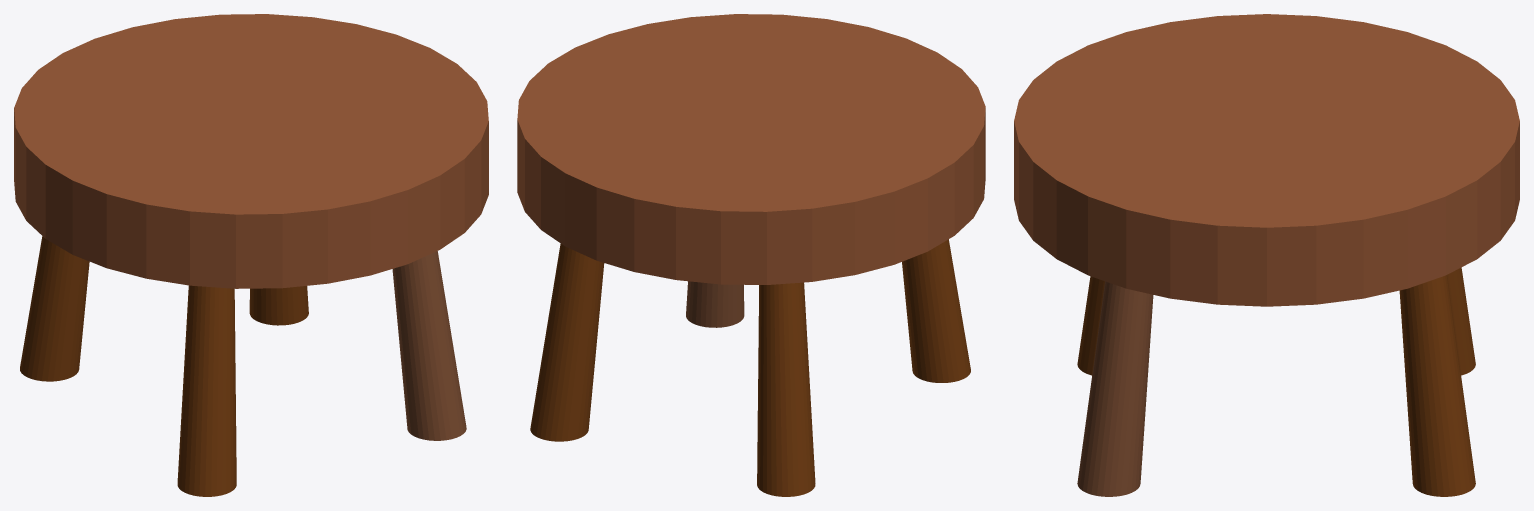
Rendered from M_Tabouret.fbx.
3 views of the same model, side by side, from view 1: azimuth 30°, elevation 25°; view 2: azimuth 150°, elevation 25°; view 3: azimuth 270°, elevation 25° (orthographic). The views are drawn at different scales.
Parts seen in each view (by area): view 1: Cylindre.007; view 2: Cylindre.007; view 3: Cylindre.007.
Boxes of the visible parts, left/top/right/bottom form: Cylindre.007: left=14, top=14, right=488, bottom=496; Cylindre.007: left=517, top=14, right=985, bottom=496; Cylindre.007: left=1014, top=14, right=1519, bottom=496.
Bounding box in the file's own units: 135 × 89.53 × 135.
